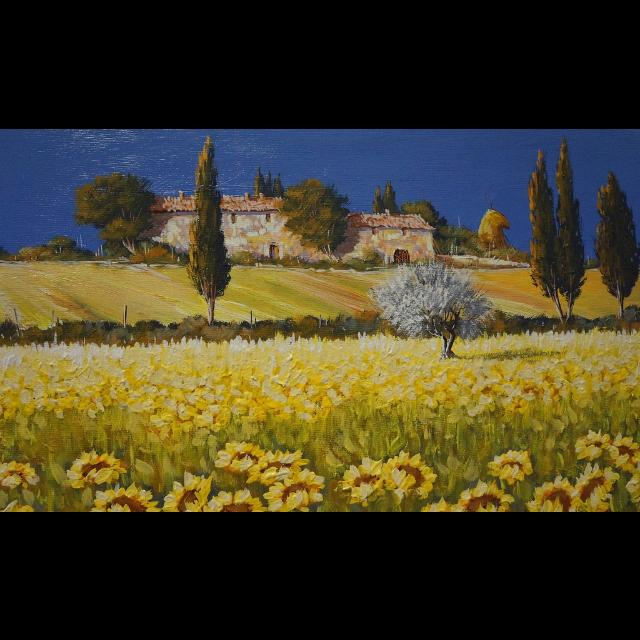Flower: (0, 326, 638, 510)
